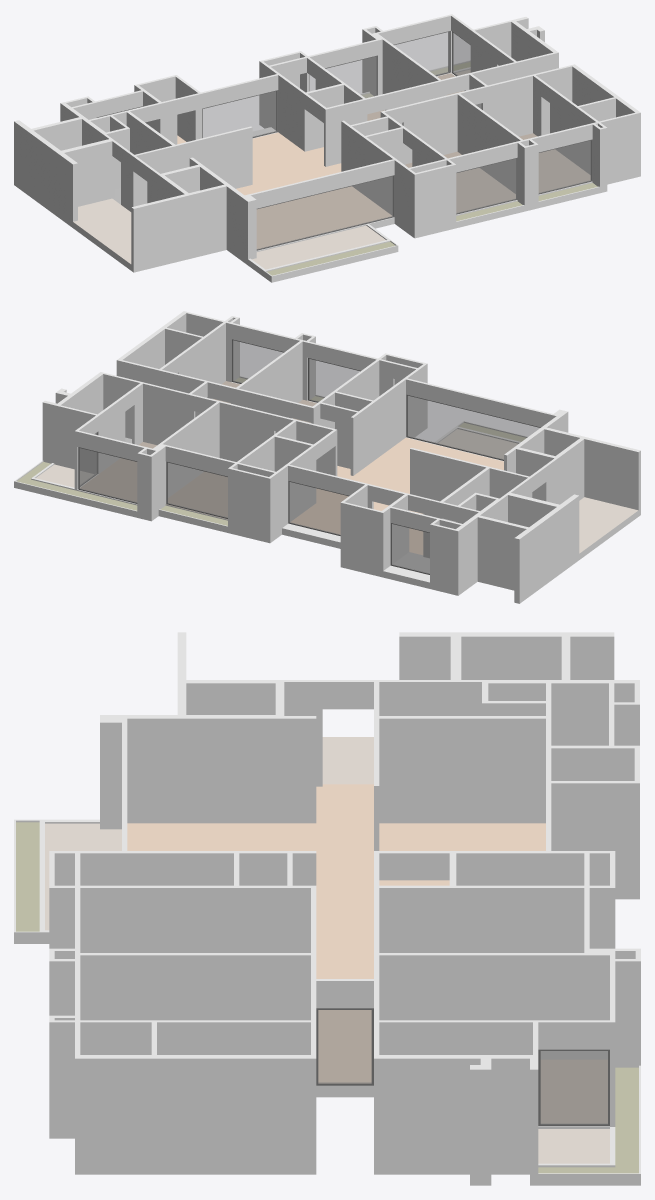
3 views of the same model, one above another, from view 1: azimuth 30°, elevation 25°; view 2: azimuth 150°, elevation 25°; view 3: azimuth 270°, elevation 25° (orthographic). The views are drawn at different scales.
Visible parts, largest first — view 1: Group2, Group1, Group6, Group5, Group7, Group8, Group3, Group4, Group10; view 2: Group2, Group1, Group6, Group4, Group3, Group5, Group11, Group8, Group7, Group10; view 3: Group2, Group1, Group10, Group9.
Boxes of the visible parts, x1,y1,x2,y2 form: Group2: (14,14,640,265); Group1: (14,60,640,282); Group6: (256,175,394,250); Group5: (202,90,277,137); Group7: (456,158,516,214); Group8: (538,139,592,194); Group3: (393,31,449,76); Group4: (309,55,377,97); Group10: (452,31,470,76); Group2: (42,311,640,597); Group1: (14,376,640,603); Group6: (406,394,540,460); Group4: (166,461,227,518); Group3: (78,447,137,503); Group5: (288,481,349,535); Group11: (390,523,429,574); Group8: (231,339,284,383); Group7: (308,358,360,402); Group10: (80,432,97,486); Group2: (49,632,640,1173); Group1: (14,737,640,1185); Group10: (538,1049,609,1126); Group9: (316,1008,373,1085).
Bounding box in the file's own units: 969 × 120 × 587.
